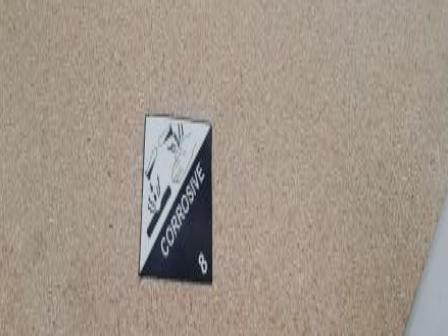corrosive: (137, 117, 214, 288)
